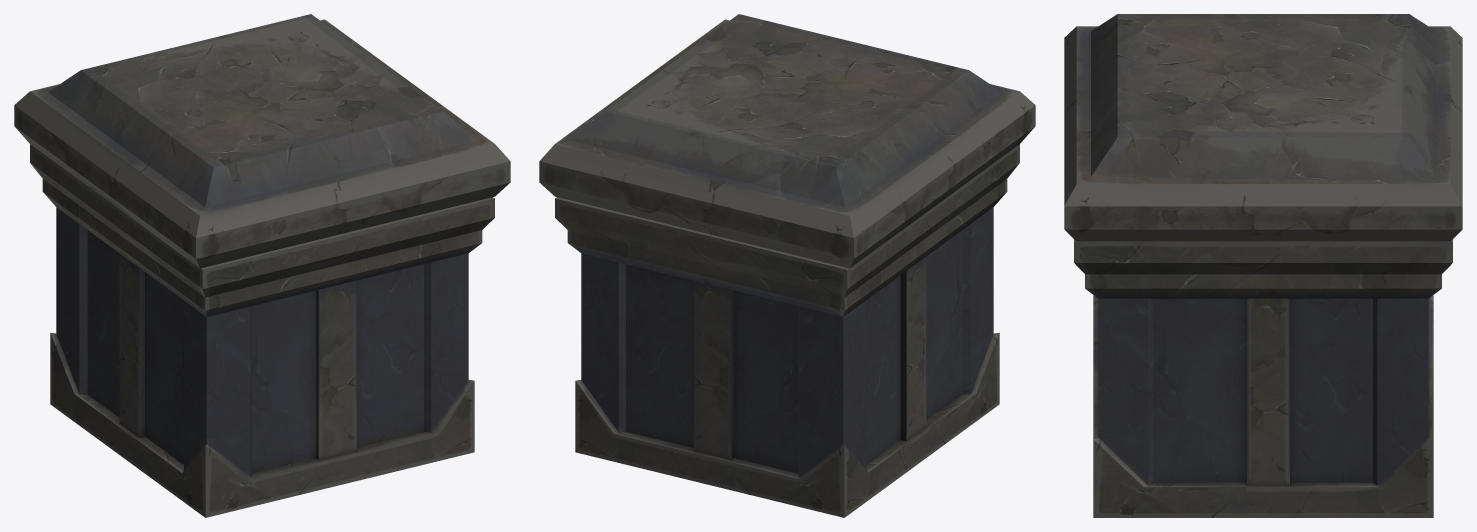
File: Item_Chest.fbx
3 renders of one model, left to right at view 1: azimuth 30°, elevation 25°; view 2: azimuth 150°, elevation 25°; view 3: azimuth 270°, elevation 25°, orthographic. The views are drawn at different scales.
Visible parts, largest first — view 1: Chest2_Bottom2, Chest2_Top2; view 2: Chest2_Bottom2, Chest2_Top2; view 3: Chest2_Bottom2, Chest2_Top2.
Part boxes in pixels (x1=…): Chest2_Bottom2: x1=30, y1=144, x2=494, y2=517; Chest2_Top2: x1=14, y1=14, x2=510, y2=268; Chest2_Bottom2: x1=555, y1=144, x2=1019, y2=517; Chest2_Top2: x1=539, y1=14, x2=1035, y2=268; Chest2_Bottom2: x1=1074, y1=239, x2=1452, y2=517; Chest2_Top2: x1=1064, y1=14, x2=1462, y2=241.
Bounding box in the file's own units: 0.2396 × 0.2457 × 0.2396.
2 materials, 2 textured.
